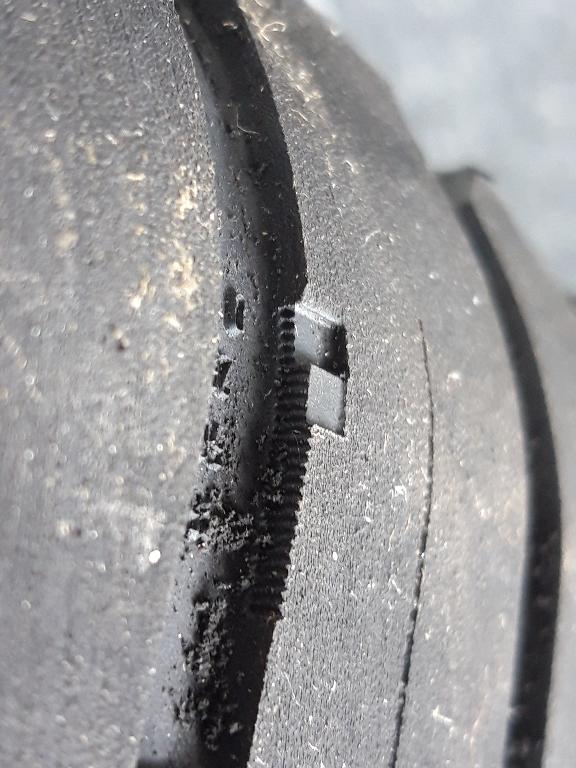temoin:25: (246, 279, 372, 465)
